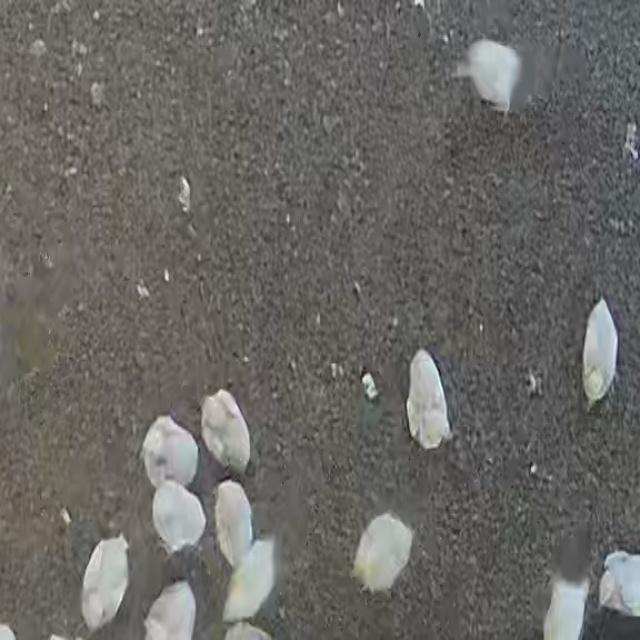chicken: (463, 34, 527, 122), (220, 537, 278, 627), (80, 535, 131, 634), (352, 513, 414, 594), (399, 348, 449, 448), (200, 389, 252, 478), (140, 414, 199, 492), (151, 480, 208, 557), (583, 298, 618, 410), (213, 480, 255, 570)
